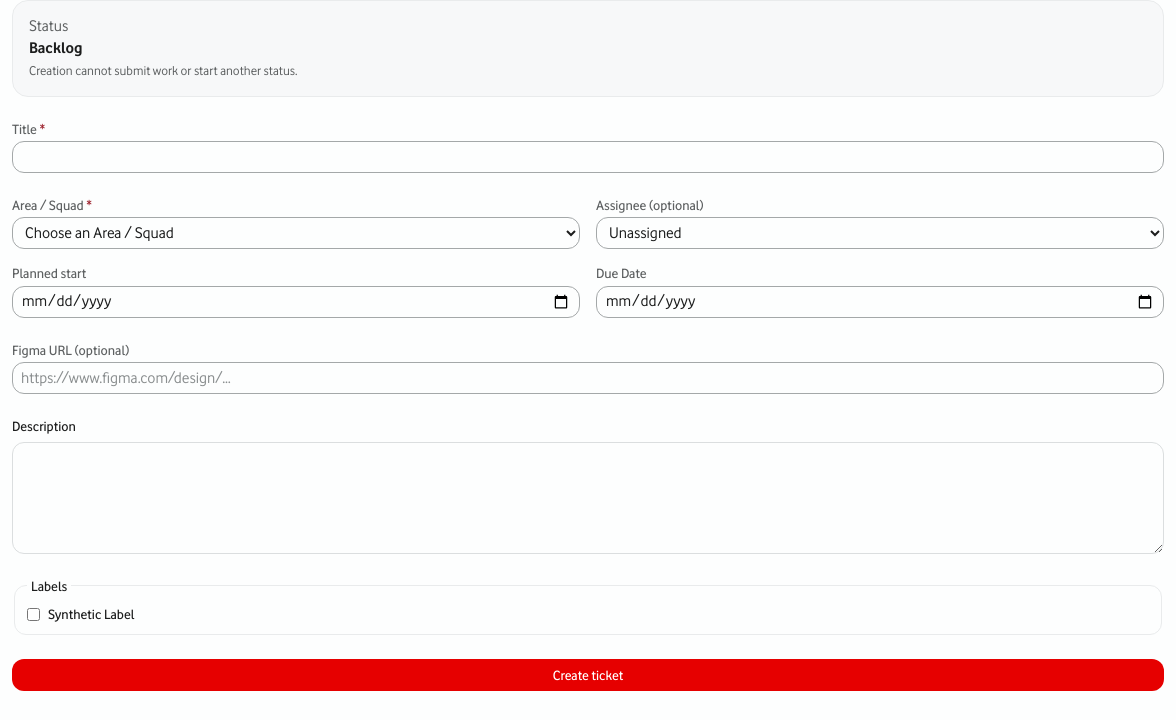
WorkItemForm › keeps values after client validation and fixes creation status to Backlog
Type "Preserved title" into the field labelled "Title *" at {"x": 588, "y": 157}, box x1=12 y1=141 x2=1164 y2=173
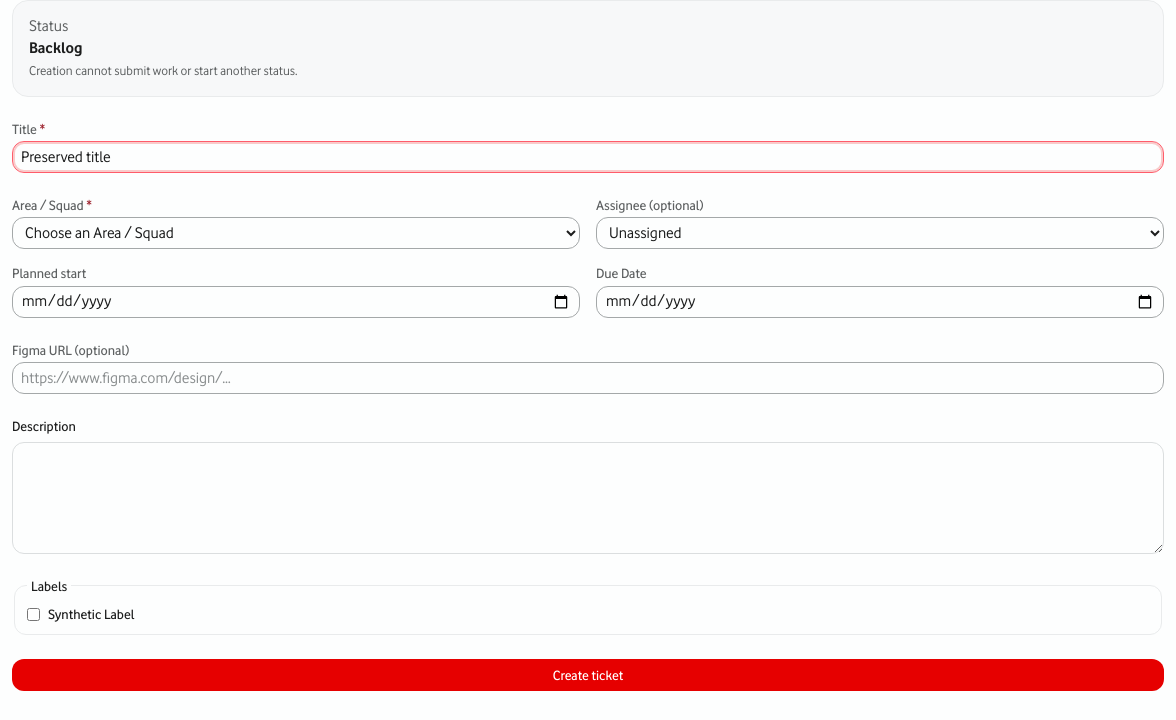
Click the button "Create ticket" at {"x": 588, "y": 675}, box x1=12 y1=659 x2=1164 y2=691
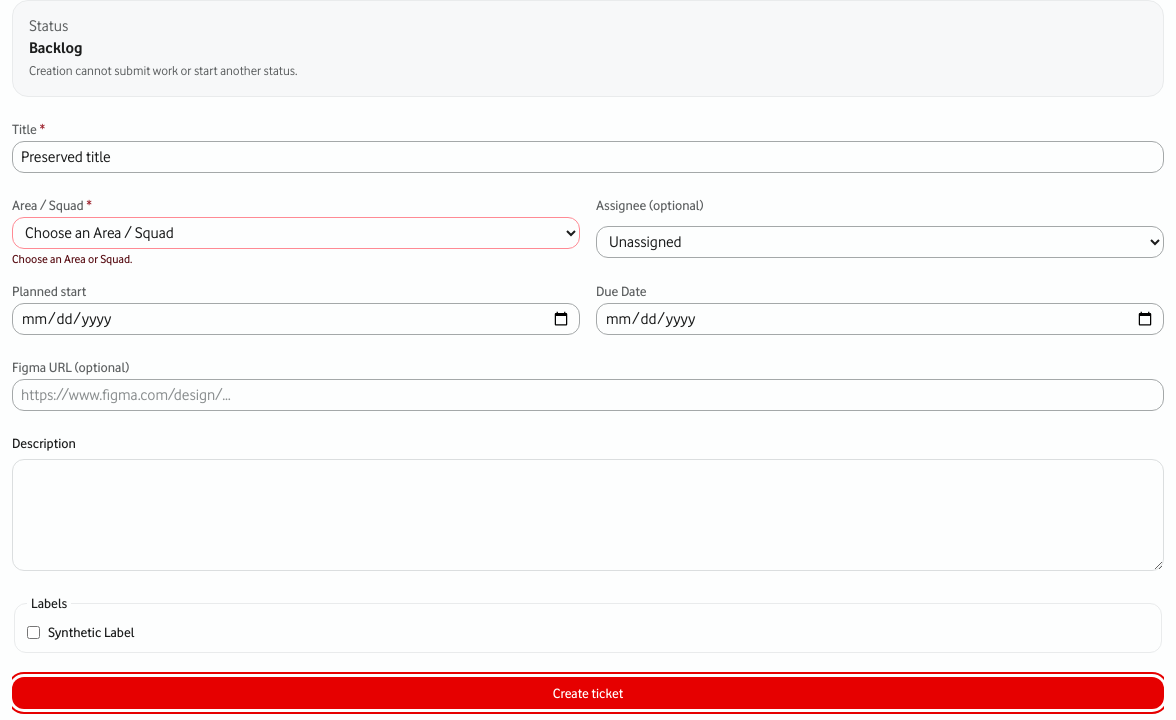
Expected: the text "Backlog" is shown, x1=29 y1=39 x2=82 y2=57
Expected: the text "Choose an Area or Squad." is shown, x1=12 y1=252 x2=132 y2=266
